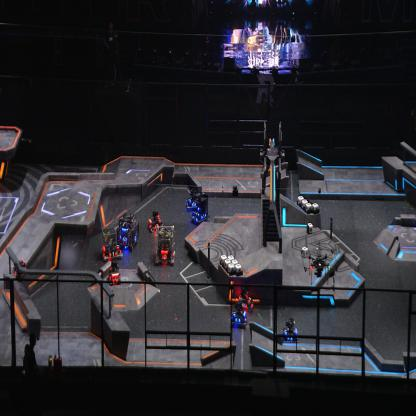car: (116, 212, 140, 250), (154, 222, 175, 265), (99, 224, 123, 260), (190, 191, 210, 223), (228, 300, 247, 328), (281, 316, 299, 343), (186, 183, 202, 211), (238, 286, 254, 314), (107, 258, 122, 286), (148, 208, 162, 233)
